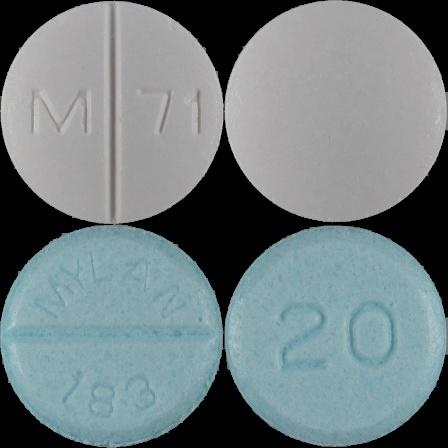0378-0181: (0, 0, 224, 224)
